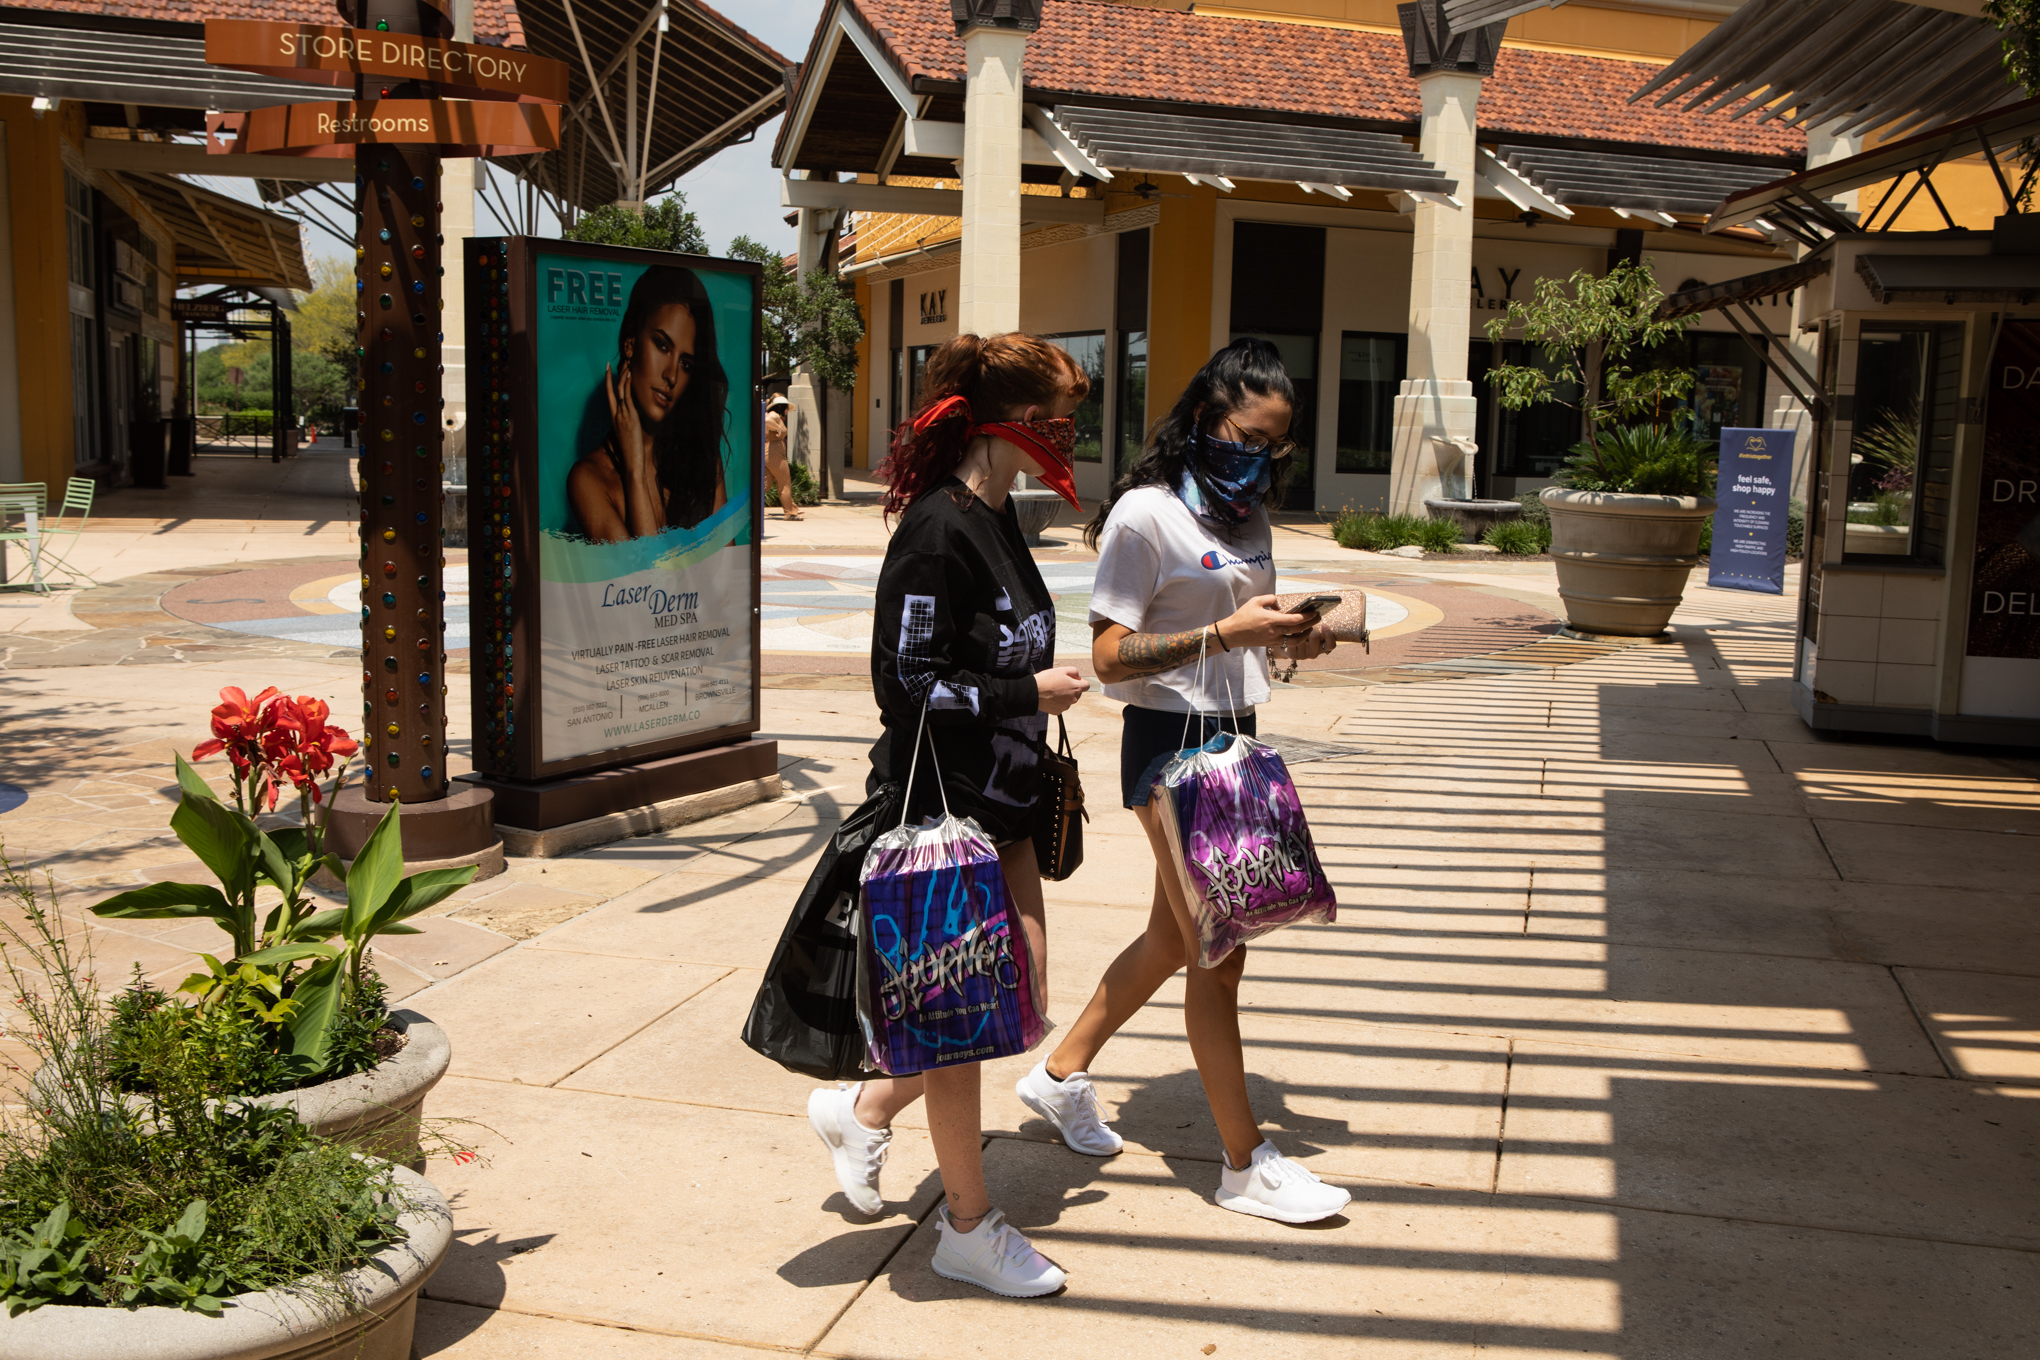Person: (811, 331, 1088, 1301), (1085, 339, 1348, 1224)
